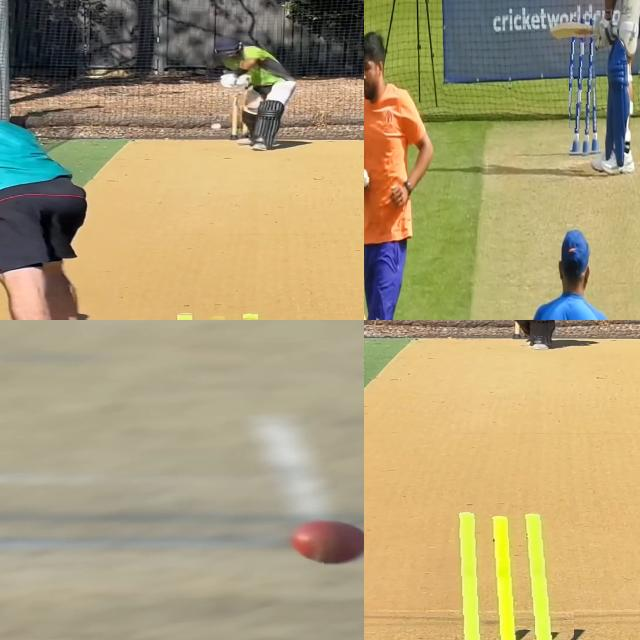Cricket ball: (286, 516, 364, 567), (364, 166, 370, 192), (209, 122, 223, 131)
Stumps: (436, 508, 574, 640), (569, 35, 599, 160)
